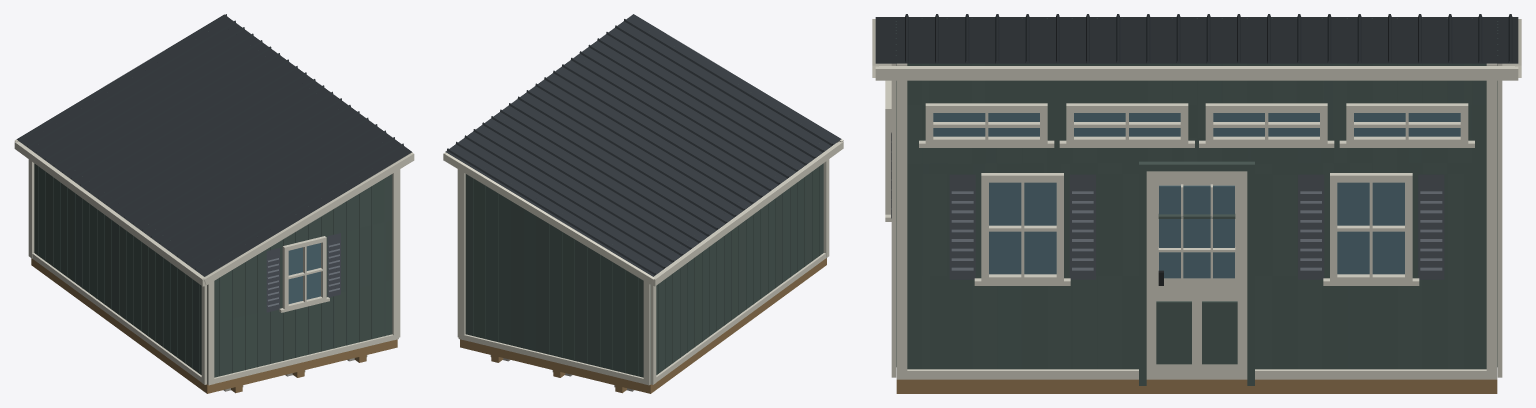
Rendered from 07-studio-shutters.glb.
The picture shows the model from 3 angles, left to right: view 1: azimuth 30°, elevation 25°; view 2: azimuth 150°, elevation 25°; view 3: azimuth 270°, elevation 25°; orthographic projection. The views are drawn at different scales.
Visible parts, largest first — view 1: Main roof, front wall, left wall, Floor platform and skids, front wall window, Louvered window shutters; view 2: Main roof, rear wall, left wall, Floor platform and skids; view 3: right wall, Main roof, right wall entry, right wall transom, right wall window, Louvered window shutters, Floor platform and skids, front wall, rear wall, front wall window.
Part boxes in pixels (x1,y1,x2,y2): Main roof: [14, 14, 414, 286]; front wall: [207, 170, 398, 385]; left wall: [28, 149, 207, 384]; Floor platform and skids: [31, 258, 397, 393]; front wall window: [279, 236, 329, 312]; Louvered window shutters: [266, 233, 340, 312]; Main roof: [443, 14, 843, 286]; rear wall: [458, 170, 650, 385]; left wall: [650, 143, 829, 384]; Floor platform and skids: [460, 258, 826, 393]; right wall: [896, 63, 1497, 379]; Main roof: [872, 14, 1521, 80]; right wall entry: [1139, 161, 1254, 385]; right wall transom: [919, 103, 1474, 147]; right wall window: [974, 173, 1419, 285]; Louvered window shutters: [891, 132, 1444, 279]; Floor platform and skids: [896, 379, 1497, 393]; front wall: [891, 21, 896, 377]; rear wall: [1497, 21, 1502, 377]; front wall window: [885, 80, 891, 221].
Size of the model in its own units: 3.39 by 3.18 by 5.27.
